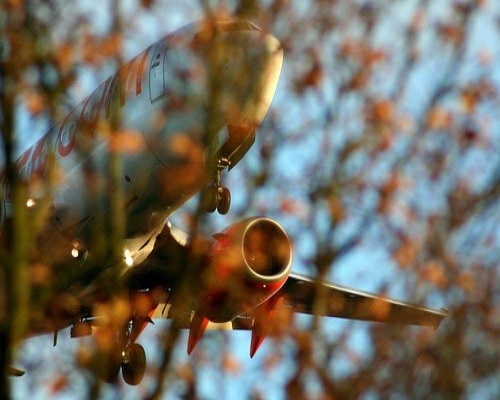plane: (31, 21, 444, 374)
